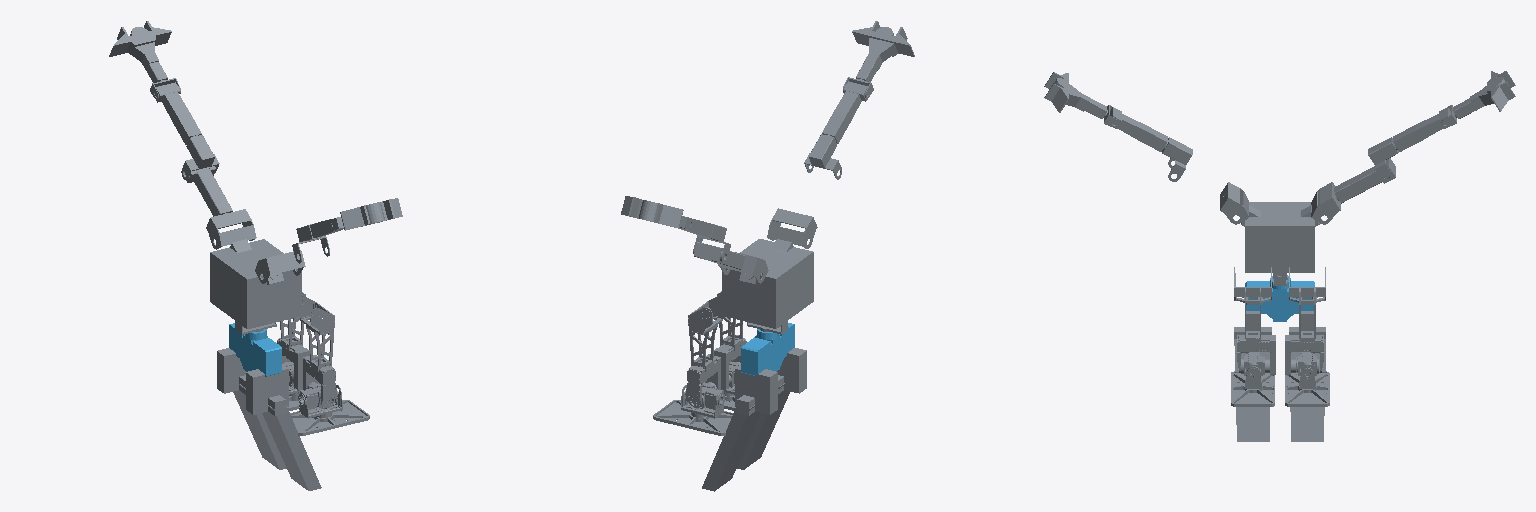
--- Facts derived from the render (not from the file) ---
3 views of the same robot in one strip: view 1: azimuth 30°, elevation 25°; view 2: azimuth 150°, elevation 25°; view 3: azimuth 270°, elevation 25° (orthographic).
Robot: dyros_jet_robot — 30 links, 29 joints (28 revolute, 1 fixed); root link world; default pose: all joints at 0.
Visible links, largest first — view 1: WaistYaw_Link, R_KneePitch_Link, R_HipPitch_Link, L_HandYaw_Link, base_link, R_AnkleRoll_Link, R_HipYaw_Link, L_ShoulderRoll_Link, L_WristYaw_Link, L_HipPitch_Link, L_KneePitch_Link, R_HandYaw_Link (+5 smaller); view 2: WaistYaw_Link, L_KneePitch_Link, L_HipPitch_Link, base_link, R_HandYaw_Link, L_AnkleRoll_Link, L_HipYaw_Link, R_ShoulderRoll_Link, R_WristYaw_Link, R_HipPitch_Link, R_KneePitch_Link, L_HandYaw_Link (+5 smaller); view 3: WaistYaw_Link, L_KneePitch_Link, R_KneePitch_Link, L_AnkleRoll_Link, R_AnkleRoll_Link, base_link, L_HandYaw_Link, R_HandYaw_Link, L_HipPitch_Link, R_HipPitch_Link, L_ShoulderYaw_Link, R_WristYaw_Link (+5 smaller).
Boxes of the visible links, x1,y1,x2,y2 form: WaistYaw_Link: [210, 239, 301, 328]; R_KneePitch_Link: [300, 295, 335, 407]; R_HipPitch_Link: [262, 405, 321, 490]; L_HandYaw_Link: [109, 21, 171, 82]; base_link: [229, 323, 281, 376]; R_AnkleRoll_Link: [290, 385, 369, 435]; R_HipYaw_Link: [246, 364, 288, 414]; L_ShoulderRoll_Link: [206, 209, 256, 249]; L_WristYaw_Link: [155, 82, 201, 144]; L_HipPitch_Link: [233, 384, 286, 469]; L_KneePitch_Link: [277, 292, 309, 390]; R_HandYaw_Link: [340, 198, 402, 230]; WaistYaw_Link: [722, 239, 813, 328]; L_KneePitch_Link: [687, 294, 723, 407]; L_HipPitch_Link: [702, 405, 760, 491]; base_link: [741, 323, 794, 375]; R_HandYaw_Link: [852, 21, 914, 81]; L_AnkleRoll_Link: [653, 385, 732, 435]; L_HipYaw_Link: [735, 364, 777, 414]; R_ShoulderRoll_Link: [767, 208, 817, 248]; R_WristYaw_Link: [822, 81, 868, 143]; R_HipPitch_Link: [737, 383, 789, 469]; R_KneePitch_Link: [714, 291, 746, 390]; L_HandYaw_Link: [621, 196, 683, 228]; WaistYaw_Link: [1241, 202, 1319, 279]; L_KneePitch_Link: [1285, 267, 1325, 374]; R_KneePitch_Link: [1234, 267, 1275, 374]; L_AnkleRoll_Link: [1285, 368, 1329, 406]; R_AnkleRoll_Link: [1231, 368, 1274, 406]; base_link: [1245, 276, 1314, 321]; L_HandYaw_Link: [1452, 71, 1515, 118]; R_HandYaw_Link: [1044, 72, 1107, 118]; L_HipPitch_Link: [1290, 339, 1325, 441]; R_HipPitch_Link: [1234, 339, 1269, 441]; L_ShoulderYaw_Link: [1334, 158, 1395, 203]; R_WristYaw_Link: [1110, 107, 1167, 151].
Size in the robot's own frame: 0.4936 by 1.82 by 1.47 metres.
26 mesh visuals loaded from 25 distinct referenced files (22 binary STL); not drawn: 3 (reference not matched to a file when rendering).

URDF robot description (dyros_jet_robot):

<robot name="dyros_jet_robot">
  <link name="world"/>
  <joint name="virtual" type="fixed">
    <origin xyz="0 0 0" rpy="0 0 0" />
    <parent link="world"/>
    <child link="base_link"/>
    <limit effort="30" velocity="1.0" lower="-2.2" upper="0.7" />
  </joint>

  <link name="base_link">
    <inertial>
      <origin xyz="0 0 0.08027" rpy="0 0 0" />
      <mass value="3.90994" />
      <inertia
        ixx="0.02724195938"
        ixy="0"
        ixz="0"
        iyy="0.00634115870"
        iyz="0"
        izz="0.02399190431" />
    </inertial>
    <visual>
      <origin
        xyz="0 0 0"
        rpy="0 0 0" />
      <geometry>
        <mesh filename="package://dyros_jet_description/meshes/base_link.stl" />
      </geometry>
      <material
        name="">
        <color rgba="0.59216 0.61961 0.65origin098 1" />
      </material>
    </visual>
    <collision>
      <origin
        xyz="0 0 0"
        rpy="0 0 0" />
      <geometry>
        <mesh
          filename="package://dyros_jet_description/meshes/base_link.stl" />
      </geometry> 
    </collision>
  </link>
  <link name="L_HipYaw_Link">
    <inertial>
      <origin
        xyz="-0.02955 0 0.06943"
        rpy="0 0 0" />
      <mass value="1.54216" />
      <inertia
        ixx="0.00412070145"
        ixy="0"
        ixz="0.00089593414"
        iyy="0.00664372362"
        iyz="0"
        izz="0.00338413515" />
    </inertial>
    <visual>
      <origin
        xyz="0 0 0"
        rpy="0 0 0" />
      <geometry>
        <mesh
          filename="package://dyros_jet_description/meshes/hip_yaw.stl" />
      </geometry>
      <material
        name="">
        <color
          rgba="0.59216 0.61961 0.65098 1" />
      </material>
    </visual>
    <collision>
      <origin
        xyz="0 0 0"
        rpy="0 0 0" />
      <geometry>
        <mesh
          filename="package://dyros_jet_description/meshes/hip_yaw.stl" />
      </geometry>
    </collision>
  </link>
  <joint
    name="L_HipYaw"
    type="revolute">
    <origin
      xyz="0 0.105 -0.11190"
      rpy="0 0 0" />
    <parent
      link="base_link" />
    <child
      link="L_HipYaw_Link" />
    <axis
      xyz="0 0 -1" />
    <limit
      effort="30"
      velocity="1" lower="-3.14" upper="3.14" />
  </joint>
  <link
    name="L_HipRoll_Link">
    <inertial>
      <origin
        xyz="0.00513 -0.00119 0"
        rpy="0 0 0" />
      <mass
        value="1.16907" />
      <inertia
        ixx="0.00180677428"
        ixy="0.00000973989"
        ixz="0"
        iyy="0.00087972680"
        iyz="0"
        izz="0.00199196267" />
    </inertial>
    <visual>
      <origin
        xyz="0 0 0"
        rpy="0 0 0" />
      <geometry>
        <mesh
          filename="package://dyros_jet_description/meshes/hip_roll.stl" />
      </geometry>
      <material
        name="">
        <color
          rgba="0.59216 0.61961 0.65098 1" />
      </material>
    </visual>
    <collision>
      <origin
        xyz="0 0 0"
        rpy="0 0 0" />
      <geometry>
        <mesh
          filename="package://dyros_jet_description/meshes/hip_roll.stl" />
      </geometry>
    </collision>
  </link>
  <joint
    name="L_HipRoll"
    type="revolute">
    <origin
      xyz="0 0 0"
      rpy="0 0 0" />
    <parent
      link="L_HipYaw_Link" />
    <child
      link="L_HipRoll_Link" />
    <axis
      xyz="1 0 0" />
    <limit
      effort="30"
      velocity="1" lower="-3.14" upper="3.14" />
  </joint>
  <link
    name="L_HipPitch_Link">
    <inertial>
      <origin
        xyz="0.12203 0.00306 -0.23316"
        rpy="0 0 0" />
      <mass
        value="3.28269" />
      <inertia
        ixx="0.04026422334"
        ixy="-0.00122469549"
        ixz="-0.01390323874"
        iyy="0.04329246922"
        iyz="0.00234011199"
        izz="0.01768138410" />
    </inertial>
    <visual>
      <origin
        xyz="0 0 0"
        rpy="0 0 0" />
      <geometry>
        <mesh
          filename="package://dyros_jet_description/meshes/hip_pitch.stl" />
      </geometry>
      <material
        name="">
        <color
          rgba="0.59216 0.61961 0.65098 1" />
      </material>
    </visual>
    <collision>
      <origin
        xyz="0 0 0"
        rpy="0 0 0" />
      <geometry>
        <mesh
          filename="package://dyros_jet_description/meshes/hip_pitch.stl" />
      </geometry>
    </collision>
  </link>
  <joint
    name="L_HipPitch"
    type="revolute">
    <origin
      xyz="0 0 0"
      rpy="0 0 0" />
    <parent
      link="L_HipRoll_Link" />
    <child
      link="L_HipPitch_Link" />
    <axis
      xyz="0 1 0" />
    <limit
      effort="30"
      velocity="1" lower="-3.14" upper="3.14" />
  </joint>
  <link
    name="L_KneePitch_Link">
    <inertial>
      <origin
        xyz="0.05276 -0.01856 -0.22635"
        rpy="0 0 0" />
      <mass
        value="2.04524" />
      <inertia
        ixx="0.03535528788"
        ixy="-0.00087858758"
        ixz="-0.00310465960"
        iyy="0.03128221988"
        iyz="0.00677319603"
        izz="0.00677705818" />
    </inertial>
    <visual>
      <origin
        xyz="0 0 0"
        rpy="0 0 0" />
      <geometry>
        <mesh
          filename="package://dyros_jet_description/meshes/left_shin.stl" />
      </geometry>
      <material
        name="">
        <color
          rgba="0.59216 0.61961 0.65098 1" />
      </material>
    </visual>
    <collision>
      <origin
        xyz="0 0 0"
        rpy="0 0 0" />
      <geometry>
        <mesh
          filename="package://dyros_jet_description/meshes/left_shin.stl" />
      </geometry>
    </collision>
  </link>
  <joint
    name="L_KneePitch"
    type="revolute">
    <origin
      xyz="0.1515 0 0.339"
      rpy="0 0 0" />
    <parent
      link="L_HipPitch_Link" />
    <child
      link="L_KneePitch_Link" />
    <axis
      xyz="0 1 0" />
    <limit
      effort="30"
      velocity="1" lower="-3.14" upper="3.14" />
  </joint>
  <link
    name="L_AnklePitch_Link">
    <inertial>
      <origin
        xyz="-0.01035 0.00568 0"
        rpy="0 0 0" />
      <mass
        value="1.18450" />
      <inertia
        ixx="0.00091081511"
        ixy="0.00006964019"
        ixz="0"
        iyy="0.00185149782"
        iyz="0"
        izz="0.00206162879" />
    </inertial>
    <visual>
      <origin
        xyz="0 0 0"
        rpy="0 0 0" />
      <geometry>
        <mesh
          filename="package://dyros_jet_description/meshes/left_ankle_pitch.stl" />
      </geometry>
      <material
        name="">
        <color
          rgba="0.59216 0.61961 0.65098 1" />
      </material>
    </visual>
    <collision>
      <origin
        xyz="0 0 0"
        rpy="0 0 0" />
      <geometry>
        <mesh
          filename="package://dyros_jet_description/meshes/left_ankle_pitch.stl" />
      </geometry>
    </collision>
  </link>
  <joint
    name="L_AnklePitch"
    type="revolute">
    <origin
      xyz="0.06 0 -0.368"
      rpy="0 0 0" />
    <parent
      link="L_KneePitch_Link" />
    <child
      link="L_AnklePitch_Link" />
    <axis
      xyz="0 1 0" />
    <limit
      effort="30"
      velocity="1" lower="-3.14" upper="3.14" />
  </joint>
  <link
    name="L_AnkleRoll_Link">
    <inertial>
      <origin
        xyz="-0.00989 0 0.07224"
        rpy="0 0 0" />
      <mass
        value="1.42541" />
      <inertia
        ixx="0.00349247764"
        ixy="0"
        ixz="-0.00086859128"
        iyy="0.00816767704"
        iyz="0"
        izz="0.00895530984" />
    </inertial>
    <visual>
      <origin
        xyz="0 0 0"
        rpy="0 0 0" />
      <geometry>
        <mesh
          filename="package://dyros_jet_description/meshes/ankle_roll.stl" />
      </geometry>
      <material
        name="">
        <color
          rgba="0.59216 0.61961 0.65098 1" />
      </material>
    </visual>
    <collision>
      <origin
        xyz="0 0 0"
        rpy="0 0 0" />
      <geometry>
        <mesh
          filename="package://dyros_jet_description/meshes/ankle_roll.stl" />
      </geometry>
    </collision>
  </link>
  <joint
    name="L_AnkleRoll"
    type="revolute">
    <origin
      xyz="0 0 0"
      rpy="0 0 0" />
    <parent
      link="L_AnklePitch_Link" />
    <child
      link="L_AnkleRoll_Link" />
    <axis
      xyz="1 0 0" />
    <limit
      effort="30"
      velocity="1" lower="-3.14" upper="3.14" />
  </joint>
  <link
    name="R_HipYaw_Link">
    <inertial>
      <origin
        xyz="-0.02955 0 0.06943"
        rpy="0 0 0" />
      <mass
        value="1.54216" />
      <inertia
        ixx="0.00412070145"
        ixy="0"
        ixz="0.00089593414"
        iyy="0.00664372362"
        iyz="0"
        izz="0.00338413515" />
    </inertial>
    <visual>
      <origin
        xyz="0 0 0"
        rpy="0 0 0" />
      <geometry>
        <mesh
          filename="package://dyros_jet_description/meshes/hip_yaw.stl" />
      </geometry>
      <material
        name="">
        <color
          rgba="0.59216 0.61961 0.65098 1" />
      </material>
    </visual>
    <collision>
      <origin
        xyz="0 0 0"
        rpy="0 0 0" />
      <geometry>
        <mesh
          filename="package://dyros_jet_description/meshes/hip_yaw.stl" />
      </geometry>
    </collision>
  </link>
  <joint
    name="R_HipYaw"
    type="revolute">
    <origin
      xyz="0 -0.105 -0.11190"
      rpy="0 0 0" />
    <parent
      link="base_link" />
    <child
      link="R_HipYaw_Link" />
    <axis
      xyz="0 0 -1" />
    <limit
      effort="30"
      velocity="1" lower="-3.14" upper="3.14" />
  </joint>
  <link
    name="R_HipRoll_Link">
    <inertial>
      <origin
        xyz="0.00513 0.00119 0"
        rpy="0 0 0" />
      <mass
        value="1.16907" />
      <inertia
        ixx="0.00180677428"
        ixy="-0.00000973989"
        ixz="0"
        iyy="0.00087972680"
        iyz="0"
        izz="0.00199196267" />
    </inertial>
    <visual>
      <origin
        xyz="0 0 0"
        rpy="0 0 0" />
      <geometry>
        <mesh
          filename="package://dyros_jet_description/meshes/hip_roll.stl" />
      </geometry>
      <material
        name="">
        <color
          rgba="0.59216 0.61961 0.65098 1" />
      </material>
    </visual>
    <collision>
      <origin
        xyz="0 0 0"
        rpy="0 0 0" />
      <geometry>
        <mesh
          filename="package://dyros_jet_description/meshes/hip_roll.stl" />
      </geometry>
    </collision>
  </link>
  <joint
    name="R_HipRoll"
    type="revolute">
    <origin
      xyz="0 0 0"
      rpy="0 0 0" />
    <parent
      link="R_HipYaw_Link" />
    <child
      link="R_HipRoll_Link" />
    <axis
      xyz="1 0 0" />
    <limit
      effort="30"
      velocity="1" lower="-3.14" upper="3.14" />
  </joint>
  <link
    name="R_HipPitch_Link">
    <inertial>
      <origin
        xyz="0.11203 -0.00306 -0.23316"
        rpy="0 0 0" />
      <mass
        value="3.28269" />
      <inertia
        ixx="0.04026423334"
        ixy="0.00122469549"
        ixz="-0.01390323874"
        iyy="0.04329246922"
        iyz="-0.00233982906"
        izz="0.01768138410" />
    </inertial>
    <visual>
      <origin
        xyz="0 0 0"
        rpy="0 0 0" />
      <geometry>
        <mesh
          filename="package://dyros_jet_description/meshes/hip_pitch.stl" />
      </geometry>
      <material
        name="">
        <color
          rgba="0.59216 0.61961 0.65098 1" />
      </material>
    </visual>
    <collision>
      <origin
        xyz="0 0 0"
        rpy="0 0 0" />
      <geometry>
        <mesh
          filename="package://dyros_jet_description/meshes/hip_pitch.stl" />
      </geometry>
    </collision>
  </link>
  <joint
    name="R_HipPitch"
    type="revolute">
    <origin
      xyz="0 0 0"
      rpy="0 0 0" />
    <parent
      link="R_HipRoll_Link" />
    <child
      link="R_HipPitch_Link" />
    <axis
      xyz="0 -1 0" />
    <limit
      effort="30"
      velocity="1" lower="-3.14" upper="3.14" />
  </joint>
  <link
    name="R_KneePitch_Link">
    <inertial>
      <origin
        xyz="0.05276 0.01856 -0.22635"
        rpy="0 0 0" />
      <mass
        value="2.04524" />
      <inertia
        ixx="0.03537964069"
        ixy="0.00087727444"
        ixz="-0.00310527519"
        iyy="0.03129299830"
        iyz="-0.00676289825"
        izz="0.00679475749" />
    </inertial>
    <visual>
      <origin
        xyz="0 0 0"
        rpy="0 0 0" />
      <geometry>
        <mesh
          filename="package://dyros_jet_description/meshes/right_shin.stl" />
      </geometry>
      <material
        name="">
        <color
          rgba="0.59216 0.61961 0.65098 1" />
      </material>
    </visual>
    <collision>
      <origin
        xyz="0 0 0"
        rpy="0 0 0" />
      <geometry>
        <mesh
          filename="package://dyros_jet_description/meshes/right_shin.stl" />
      </geometry>
    </collision>
  </link>
  <joint
    name="R_KneePitch"
    type="revolute">
    <origin
      xyz="0.1515 0 0.339"
      rpy="0 0 0" />
    <parent
      link="R_HipPitch_Link" />
    <child
      link="R_KneePitch_Link" />
    <axis
      xyz="0 -1 0" />
    <limit
      effort="30"
      velocity="1" lower="-3.14" upper="3.14" />
  </joint>
  <link
    name="R_AnklePitch_Link">
    <inertial>
      <origin
        xyz="-0.01035 0.00568 0"
        rpy="0 0 0" />
      <mass
        value="1.18450" />
      <inertia
        ixx="0.00091077271"
        ixy="-0.00006959439"
        ixz="0"
        iyy="0.00185147541"
        iyz="0"
        izz="0.00206164878" />
    </inertial>
    <visual>
      <origin
        xyz="0 0 0"
        rpy="0 0 0" />
      <geometry>
        <mesh
          filename="package://dyros_jet_description/meshes/right_ankle_pitch.stl" />
      </geometry>
      <material
        name="">
        <color
          rgba="0.59216 0.61961 0.65098 1" />
      </material>
    </visual>
    <collision>
      <origin
        xyz="0 0 0"
        rpy="0 0 0" />
      <geometry>
        <mesh
          filename="package://dyros_jet_description/meshes/right_ankle_pitch.stl" />
      </geometry>
    </collision>
  </link>
  <joint
    name="R_AnklePitch"
    type="revolute">
    <origin
      xyz="0.06 0 -0.368"
      rpy="0 0 0" />
    <parent
      link="R_KneePitch_Link" />
    <child
      link="R_AnklePitch_Link" />
    <axis
      xyz="0 -1 0" />
    <limit
      effort="30"
      velocity="1" lower="-3.14" upper="3.14" />
  </joint>
  <link
    name="R_AnkleRoll_Link">
    <inertial>
      <origin
        xyz="-0.00989 0 0.07224"
        rpy="0 0 0" />
      <mass
        value="1.42541" />
      <inertia
        ixx="0.00350322410"
        ixy="0"
        ixz="-0.00090168812"
        iyy="0.00816767704"
        iyz="0"
        izz="0.00894456337" />
    </inertial>
    <visual>
      <origin
        xyz="0 0 0"
        rpy="0 0 0" />
      <geometry>
        <mesh
          filename="package://dyros_jet_description/meshes/ankle_roll.stl" />
      </geometry>
      <material
        name="">
        <color
          rgba="0.59216 0.61961 0.65098 1" />
      </material>
    </visual>
    <collision>
      <origin
        xyz="0 0 0"
        rpy="0 0 0" />
      <geometry>
        <mesh
          filename="package://dyros_jet_description/meshes/ankle_roll.stl" />
      </geometry>
    </collision>
  </link>
  <joint
    name="R_AnkleRoll"
    type="revolute">
    <origin
      xyz="0 0 0"
      rpy="0 0 0" />
    <parent
      link="R_AnklePitch_Link" />
    <child
      link="R_AnkleRoll_Link" />
    <axis
      xyz="1 0 0" />
    <limit
      effort="30"
      velocity="1" lower="-3.14" upper="3.14" />
  </joint>
  <link
    name="WaistPitch_Link">
    <inertial>
      <origin
        xyz="0 0 0.14577"
        rpy="0 0 0" />
      <mass
        value="0.18235" />
      <inertia
        ixx="0.003844"
        ixy="0"
        ixz="0"
        iyy="0.004215"
        iyz="0"
        izz="0.000457" />
    </inertial>
    <visual>
      <origin
        xyz="0 0 0"
        rpy="0 0 0" />
      <geometry>
        <mesh
          filename="package://dyros_jet_description/meshes/WaistPitch_Link.stl" />
      </geometry>
      <material
        name="">
        <color
          rgba="0.59216 0.61961 0.65098 1" />
      </material>
    </visual>
    <collision>
      <origin
        xyz="0 0 0"
        rpy="0 0 0" />
      <geometry>
        <mesh
          filename="package://dyros_jet_description/meshes/WaistPitch_Link.stl" />
      </geometry>
    </collision>
  </link>
  <joint
    name="WaistPitch"
    type="revolute">
    <origin
      xyz="0 0 0"
      rpy="0 0 0" />
    <parent
      link="base_link" />
    <child
      link="WaistPitch_Link" />
    <axis
      xyz="0 0 1" />
    <limit
      effort="30"
      velocity="1" lower="-3.14" upper="3.14" />
  </joint>
  <link
    name="WaistYaw_Link">
    <inertial>
      <origin
        xyz="0.0038 -0.00415 0.11424"
        rpy="0 0 0" />
      <mass
        value="14.09938" />
      <inertia
        ixx="0.262766"
        ixy="0"
        ixz="0"
        iyy="0.242504"
        iyz="0"
        izz="0.109346" />
    </inertial>
    <visual>
      <origin
        xyz="0 0 0"
        rpy="0 0 0" />
      <geometry>
        <mesh
          filename="package://dyros_jet_description/meshes/WaistYaw_Link.stl" />
      </geometry>
      <material
        name="">
        <color
          rgba="0.59216 0.61961 0.65098 1" />
      </material>
    </visual>
    <collision>
      <origin
        xyz="0 0 0"
        rpy="0 0 0" />
      <geometry>
        <mesh
          filename="package://dyros_jet_description/meshes/WaistYaw_Link.stl" />
      </geometry>
    </collision>
  </link>
  <joint
    name="WaistYaw"
    type="revolute">
    <origin
      xyz="0 0 0.186"
      rpy="0 0 0" />
    <parent
      link="WaistPitch_Link" />
    <child
      link="WaistYaw_Link" />
    <axis
      xyz="-1 0 0" />
    <limit
      effort="30"
      velocity="1" lower="-3.14" upper="3.14" />
  </joint>
  <link
    name="L_ShoulderPitch_Link">
    <inertial>
      <origin
        xyz="-0.00159 -0.00092 0"
        rpy="0 0 0" />
      <mass
        value="0.92796" />
      <inertia
        ixx="0.000473"
        ixy="0"
        ixz="0"
        iyy="0.0015422"
        iyz="0"
        izz="0.00156" />
    </inertial>
    <visual>
      <origin
        xyz="0 0 0"
        rpy="0 0 0" />
      <geometry>
        <mesh
          filename="package://dyros_jet_description/meshes/L_ShoulderPitch_Link.stl" />
      </geometry>
      <material
        name="">
        <color
          rgba="0.59216 0.61961 0.65098 1" />
      </material>
    </visual>
    <collision>
      <origin
        xyz="0 0 0"
        rpy="0 0 0" />
      <geometry>
        <mesh
          filename="package://dyros_jet_description/meshes/L_ShoulderPitch_Link.stl" />
      </geometry>
    </collision>
  </link>
  <joint
    name="L_ShoulderPitch"
    type="revolute">
    <origin
      xyz="0 0.17 0.239"
      rpy="0.5236 0 -4.6787E-15" />
    <parent
      link="WaistYaw_Link" />
    <child
      link="L_ShoulderPitch_Link" />
    <axis
      xyz="0 1 0" />
    <limit
      effort="30"
      velocity="1" lower="-3.14" upper="3.14" />
  </joint>
  <link
    name="L_ShoulderRoll_Link">
    <inertial>
      <origin
        xyz="0 0.02958 -0.03197"
        rpy="0 0 0" />
      <mass
        value="0.11240" />
      <inertia
        ixx="0.001421"
        ixy="0"
        ixz="0"
        iyy="0.001585"
        iyz="0.000389"
        izz="0.001839" />
    </inertial>
    <visual>
      <origin
        xyz="0 0 0"
        rpy="0 0 0" />
      <geometry>
        <mesh
          filename="package://dyros_jet_description/meshes/L_ShoulderRoll_Link.stl" />
      </geometry>
      <material
        name="">
        <color
          rgba="0.59216 0.61961 0.65098 1" />
      </material>
    </visual>
    <collision>
      <origin
        xyz="0 0 0"
        rpy="0 0 0" />
      <geometry>
        <mesh
          filename="package://dyros_jet_description/meshes/L_ShoulderRoll_Link.stl" />
      </geometry>
    </collision>
  </link>
  <joint
    name="L_ShoulderRoll"
    type="revolute">
    <origin
      xyz="0 0 0"
      rpy="0 0 -7.8886E-31" />
    <parent
      link="L_ShoulderPitch_Link" />
    <child
      link="L_ShoulderRoll_Link" />
    <axis
      xyz="1 0 0" />
    <limit
      effort="30"
      velocity="1" lower="-3.14" upper="3.14" />
  </joint>
  <link
    name="L_ShoulderYaw_Link">
    <inertial>
      <origin
        xyz="0.00022 0.02910 -0.20695"
        rpy="0 0 0" />
      <mass
        value="1.75149" />
      <inertia
        ixx="0.090419"
        ixy="-0.00024"
        ixz="0"
        iyy="0.00126"
        iyz="0"
        izz="0.090836" />
    </inertial>
    <visual>
      <origin
        xyz="0 0 0"
        rpy="0 0 0" />
      <geometry>
        <mesh
          filename="package://dyros_jet_description/meshes/L_ShoulderYaw_Link.stl" />
      </geometry>
      <material
        name="">
        <color
          rgba="0.59216 0.61961 0.65098 1" />
      </material>
    </visual>
    <collision>
      <origin
        xyz="0 0 0"
        rpy="0 0 0" />
      <geometry>
        <mesh
          filename="package://dyros_jet_description/meshes/L_ShoulderYaw_Link.stl" />
      </geometry>
    </collision>
  </link>
  <joint
    name="L_ShoulderYaw"
    type="revolute">
    <origin
      xyz="0 0 0.028856"
      rpy="1.6653E-15 2.6672E-15 -1.1833E-29" />
    <parent
      link="L_ShoulderRoll_Link" />
    <child
      link="L_ShoulderYaw_Link" />
    <axis
      xyz="0 1 0" />
    <limit
      effort="30"
      velocity="1" lower="-3.14" upper="3.14" />
  </joint>
  <link
    name="L_ElbowRoll_Link">
    <inertial>
      <origin
        xyz="0.00013 0.02766 0.06984"
        rpy="0 0 0" />
      <mass
        value="0.83342" />
      <inertia
        ixx="0.00592"
        ixy="-3E-06"
        ixz="-8E-06"
        iyy="0.004878"
        iyz="0.001689"
        izz="0.001797" />
    </inertial>
    <visual>
      <origin
        xyz="0 0 0"
        rpy="0 0 0" />
      <geometry>
        <mesh
          filename="package://dyros_jet_description/meshes/L_ElbowRoll_Link.stl" />
      </geometry>
      <material
        name="">
        <color
          rgba="0.59216 0.61961 0.65098 1" />
      </material>
    </visual>
    <collision>
      <origin
        xyz="0 0 0"
        rpy="0 0 0" />
      <geometry>
        <mesh
          filename="package://dyros_jet_description/meshes/L_ElbowRoll_Link.stl" />
      </geometry>
    </collision>
  </link>
  <joint
    name="L_ElbowRoll"
    type="revolute">
    <origin
      xyz="0 0.294 0"
      rpy="-5.2736E-15 2.2506E-15 4.0518E-15" />
    <parent
      link="L_ShoulderYaw_Link" />
    <child
      link="L_ElbowRoll_Link" />
    <axis
      xyz="1 0 0" />
    <limit
      effort="30"
      velocity="1" lower="-3.14" upper="3.14" />
  </joint>
  <link
    name="L_WristYaw_Link">
    <inertial>
      <origin
        xyz="-0.00052833 0.21354 0"
        rpy="0 0 0" />
      <mass
        value="0.52391" />
      <inertia
        ixx="0.026688"
        ixy="-7.8E-05"
        ixz="0"
        iyy="0.000269"
        iyz="0"
        izz="0.026765" />
    </inertial>
    <visual>
      <origin
        xyz="0 0 0"
        rpy="0 0 0" />
      <geometry>
        <mesh
          filename="package://dyros_jet_description/meshes/L_WristYaw_Link.stl" />
      </geometry>
      <material
        name="">
        <color
          rgba="0.59216 0.61961 0.65098 1" />
      </material>
    </visual>
    <collision>
      <origin
        xyz="0 0 0"
        rpy="0 0 0" />
      <geometry>
        <mesh
          filename="package://dyros_jet_description/meshes/L_WristYaw_Link.stl" />
      </geometry>
    </collision>
  </link>
  <joint
    name="L_WristYaw"
    type="revolute">
    <origin
      xyz="0 0 0.075"
      rpy="-5.5511E-17 0 0" />
    <parent
      link="L_ElbowRoll_Link" />
    <child
      link="L_WristYaw_Link" />
    <axis
      xyz="0 1 0" />
    <limit
      effort="30"
      velocity="1" lower="-3.14" upper="3.14" />
  </joint>
  <link
    name="L_WristRoll_Link">
    <inertial>
      <origin
        xyz="0 0.029698 0"
        rpy="0 0 0" />
      <mass
        value="0.07856" />
      <inertia
        ixx="8.3E-05"
        ixy="0"
        ixz="0"
        iyy="9.0005E-05"
        iyz="0"
        izz="0.000153" />
    </inertial>
    <visual>
      <origin
        xyz="0 0 0"
        rpy="0 0 0" />
      <geometry>
        <mesh
          filename="package://dyros_jet_description/meshes/L_WristRoll_Link.stl" />
      </geometry>
      <material
        name="">
        <color
          rgba="0.59216 0.61961 0.65098 1" />
      </material>
    </visual>
    <collision>
      <origin
        xyz="0 0 0"
        rpy="0 0 0" />
      <geometry>
        <mesh
          filename="package://dyros_jet_description/meshes/L_WristRoll_Link.stl" />
      </geometry>
    </collision>
  </link>
  <joint
    name="L_WristRoll"
    type="revolute">
    <origin
      xyz="-0.00015 0.3085 0"
      rpy="3.7192E-15 -2.0473E-15 -4.2369E-15" />
    <parent
      link="L_WristYaw_Link" />
    <child
      link="L_WristRoll_Link" />
    <axis
      xyz="1 0 0" />
    <limit
      effort="30"
      velocity="1" lower="-3.14" upper="3.14" />
  </joint>
  <link
    name="L_HandYaw_Link">
    <inertial>
      <origin
        xyz="0 0.20231 0.0031654"
        rpy="0 0 0" />
      <mass
        value="1.20640" />
      <inertia
        ixx="0.05396"
        ixy="0"
        ixz="0"
        iyy="0.002601"
        iyz="0.00084"
        izz="0.055766" />
    </inertial>
    <visual>
      <origin
        xyz="0 0 0"
        rpy="0 0 0" />
      <geometry>
        <mesh
          filename="package://dyros_jet_description/meshes/L_HandYaw_Link.stl" />
      </geometry>
      <material
        name="">
        <color
          rgba="0.59216 0.61961 0.65098 1" />
      </material>
    </visual>
    <collision>
      <origin
        xyz="0 0 0"
        rpy="0 0 0" />
      <geometry>
        <mesh
          filename="package://dyros_jet_description/meshes/L_HandYaw_Link.stl" />
      </geometry>
    </collision>
  </link>
  <joint
    name="L_HandYaw"
    type="revolute">
    <origin
      xyz="0 0 0"
      rpy="5.5511E-17 0 -3.9443E-31" />
    <parent
      link="L_WristRoll_Link" />
    <child
      link="L_HandYaw_Link" />
    <axis
      xyz="0 1 0" />
    <limit
      effort="30"
      velocity="1" lower="-3.14" upper="3.14" />
  </joint>

  <link
    name="R_ShoulderPitch_Link">
    <inertial>
      <origin
        xyz="-0.00159 0.00092 0"
        rpy="0 0 0" />
      <mass
        value="0.92796" />
      <inertia
        ixx="0.000473"
        ixy="0"
        ixz="0"
        iyy="0.0015422"
        iyz="0"
        izz="0.00156" />
    </inertial>
    <visual>
      <origin
        xyz="0 0 0"
        rpy="0 0 0" />
      <geometry>
        <mesh
          filename="package://dyros_jet_description/meshes/R_ShoulderPitch_Link.stl" />
      </geometry>
      <material
        name="">
        <color
          rgba="0.59216 0.61961 0.65098 1" />
      </material>
    </visual>
    <collision>
      <origin
        xyz="0 0 0"
        rpy="0 0 0" />
      <geometry>
        <mesh
          filename="package://dyros_jet_description/meshes/R_ShoulderPitch_Link.stl" />
      </geometry>
    </collision>
  </link>
  <joint
    name="R_ShoulderPitch"
    type="revolute">
    <origin
      xyz="0 -0.17 0.239"
      rpy="-0.5236 1.6324E-15 3.0939E-15" />
    <parent
      link="WaistYaw_Link" />
    <child
      link="R_ShoulderPitch_Link" />
    <axis
      xyz="0 -1 0" />
    <limit
      effort="30"
      velocity="1" lower="-3.14" upper="3.14" />
  </joint>
  <link
    name="R_ShoulderRoll_Link">
    <inertial>
      <origin
        xyz="0 -0.02958 -0.03197"
        rpy="0 0 0" />
      <mass
        value="0.11240" />
      <inertia
        ixx="0.001421"
        ixy="0"
        ixz="0"
        iyy="0.001585"
        iyz="-0.000389"
        izz="0.001839" />
    </inertial>
    <visual>
      <origin
        xyz="0 0 0"
        rpy="0 0 0" />
      <geometry>
        <mesh
          filename="package://dyros_jet_description/meshes/R_ShoulderRoll_Link.stl" />
      </geometry>
      <material
        name="">
        <color
          rgba="0.59216 0.61961 0.65098 1" />
      </material>
    </visual>
    <collision>
      <origin
        xyz="0 0 0"
        rpy="0 0 0" />
      <geometry>
        <mesh
          filename="package://dyros_jet_description/meshes/R_ShoulderRoll_Link.stl" />
      </geometry>
    </collision>
  </link>
  <joint
    name="R_ShoulderRoll"
    type="revolute">
    <origin
      xyz="0 0 0"
      rpy="0 0 -1.9722E-31" />
    <parent
      link="R_ShoulderPitch_Link" />
    <child
      link="R_ShoulderRoll_Link" />
    <axis
      xyz="1 0 0" />
    <limit
      effort="30"
      velocity="1" lower="-3.14" upper="3.14" />
  </joint>
  <link
    name="R_ShoulderYaw_Link">
    <inertial>
      <origin
        xyz="0.00022 -0.2910 -0.20695"
        rpy="0 0 0" />
      <mass
        value="1.75149" />
      <inertia
        ixx="0.090419"
        ixy="0.00024"
        ixz="0"
        iyy="0.00126"
        iyz="0"
        izz="0.090836" />
    </inertial>
    <visual>
      <origin
        xyz="0 0 0"
        rpy="0 0 0" />
      <geometry>
        <mesh
          filename="package://dyros_jet_description/meshes/R_ShoulderYaw_Link.stl" />
      </geometry>
      <material
        name="">
        <color
          rgba="0.59216 0.61961 0.65098 1" />
      </material>
    </visual>
    <collision>
      <origin
        xyz="0 0 0"
        rpy="0 0 0" />
      <geometry>
        <mesh
          filename="package://dyros_jet_description/meshes/R_ShoulderYaw_Link.stl" />
      </geometry>
    </collision>
  </link>
  <joint
    name="R_ShoulderYaw"
    type="revolute">
    <origin
      xyz="0 0 0.028856"
      rpy="3.3862E-15 1.3323E-16 -6.4991E-15" />
    <parent
      link="R_ShoulderRoll_Link" />
    <child
      link="R_ShoulderYaw_Link" />
    <axis
      xyz="0 -1 0" />
    <limit
      effort="30"
      velocity="1" lower="-3.14" upper="3.14" />
  </joint>
  <link
    name="R_ElbowRoll_Link">
    <inertial>
      <origin
        xyz="0.00013 -0.02766 0.06984"
        rpy="0 0 0" />
      <mass
        value="0.83342" />
      <inertia
        ixx="0.00592"
        ixy="3E-06"
        ixz="-8E-06"
        iyy="0.004878"
        iyz="-0.001689"
        izz="0.001797" />
    </inertial>
    <visual>
      <origin
        xyz="0 0 0"
        rpy="0 0 0" />
      <geometry>
        <mesh
          filename="package://dyros_jet_description/meshes/R_ElbowRoll_Link.stl" />
      </geometry>
      <material
        name="">
        <color
          rgba="0.59216 0.61961 0.65098 1" />
      </material>
    </visual>
    <collision>
      <origin
        xyz="0 0 0"
        rpy="0 0 0" />
      <geometry>
        <mesh
          filename="package://dyros_jet_description/meshes/R_ElbowRoll_Link.stl" />
      </geometry>
    </collision>
  </link>
  <joint
    name="R_ElbowRoll"
    type="revolute">
    <origin
      xyz="0 -0.294 0"
      rpy="8.7708E-15 6.5224E-15 6.7691E-15" />
    <parent
      link="R_ShoulderYaw_Link" />
    <child
      link="R_ElbowRoll_Link" />
    <axis
      xyz="1 0 0" />
    <limit
      effort="30"
      velocity="1" lower="-3.14" upper="3.14" />
  </joint>
  <link
    name="R_WristYaw_Link">
    <inertial>
      <origin
        xyz="-0.00052833 -0.21354 0"
        rpy="0 0 0" />
      <mass
        value="0.52391" />
      <inertia
        ixx="0.026688"
        ixy="7.8E-05"
        ixz="0"
        iyy="0.000269"
        iyz="0"
        izz="0.026765" />
    </inertial>
    <visual>
      <origin
        xyz="0 0 0"
        rpy="0 0 0" />
      <geometry>
        <mesh
          filename="package://dyros_jet_description/meshes/R_WristYaw_Link.stl" />
      </geometry>
      <material
        name="">
        <color
          rgba="0.59216 0.61961 0.65098 1" />
      </material>
    </visual>
    <collision>
      <origin
        xyz="0 0 0"
        rpy="0 0 0" />
      <geometry>
        <mesh
          filename="package://dyros_jet_description/meshes/R_WristYaw_Link.stl" />
      </geometry>
    </collision>
  </link>
  <joint
    name="R_WristYaw"
    type="revolute">
    <origin
      xyz="0 0 0.075"
      rpy="5.5511E-17 7.8886E-31 -3.7657E-15" />
    <parent
      link="R_ElbowRoll_Link" />
    <child
      link="R_WristYaw_Link" />
    <axis
      xyz="0 -1 0" />
    <limit
      effort="30"
      velocity="1" lower="-3.14" upper="3.14" />
  </joint>
  <link
    name="R_WristRoll_Link">
    <inertial>
      <origin
        xyz="0 -0.029698 0"
        rpy="0 0 0" />
      <mass
        value="0.07856" />
      <inertia
        ixx="8.3E-05"
        ixy="0"
        ixz="0"
        iyy="9E-05"
        iyz="0"
        izz="0.000153" />
    </inertial>
    <visual>
      <origin
        xyz="0 0 0"
        rpy="0 0 0" />
      <geometry>
        <mesh
          filename="package://dyros_jet_description/meshes/R_WristRoll_Link.stl" />
      </geometry>
      <material
        name="">
        <color
          rgba="0.59216 0.61961 0.65098 1" />
      </material>
    </visual>
    <collision>
      <origin
        xyz="0 0 0"
        rpy="0 0 0" />
      <geometry>
        <mesh
          filename="package://dyros_jet_description/meshes/R_WristRoll_Link.stl" />
      </geometry>
    </collision>
  </link>
  <joint
    name="R_WristRoll"
    type="revolute">
    <origin
      xyz="-0.00015 -0.3085 0"
      rpy="-3.1641E-15 -4.6105E-15 -2.8519E-15" />
    <parent
      link="R_WristYaw_Link" />
    <child
      link="R_WristRoll_Link" />
    <axis
      xyz="1 0 0" />
    <limit
      effort="30"
      velocity="1" lower="-3.14" upper="3.14" />
  </joint>
  <link
    name="R_HandYaw_Link">
    <inertial>
      <origin
        xyz="0 -0.20231 0.0031654"
        rpy="0 0 0" />
      <mass
        value="1.20640" />
      <inertia
        ixx="0.05396"
        ixy="0"
        ixz="0"
        iyy="0.002601"
        iyz="0.00084"
        izz="0.055766" />
    </inertial>
    <visual>
      <origin
        xyz="0 0 0"
        rpy="0 0 0" />
      <geometry>
        <mesh
          filename="package://dyros_jet_description/meshes/R_HandYaw_Link.stl" />
      </geometry>
      <material
        name="">
        <color
          rgba="0.59216 0.61961 0.65098 1" />
      </material>
    </visual>
    <collision>
      <origin
        xyz="0 0 0"
        rpy="0 0 0" />
      <geometry>
        <mesh
          filename="package://dyros_jet_description/meshes/R_HandYaw_Link.stl" />
      </geometry>
    </collision>
  </link>
  <joint
    name="R_HandYaw"
    type="revolute">
    <origin
      xyz="0 0 0"
      rpy="0 -1.7256E-31 3.4513E-31" />
    <parent
      link="R_WristRoll_Link" />
    <child
      link="R_HandYaw_Link" />
    <axis
      xyz="0 -1 0" />
    <limit
      effort="30"
      velocity="1" lower="-3.14" upper="3.14" />
  </joint>
</robot>
